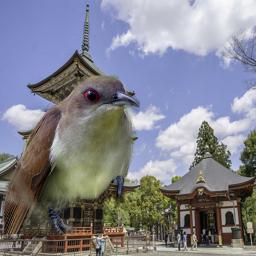Cuckoo: (2, 75, 140, 234)
